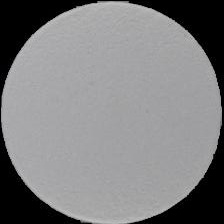53746-511: (0, 0, 224, 224)
